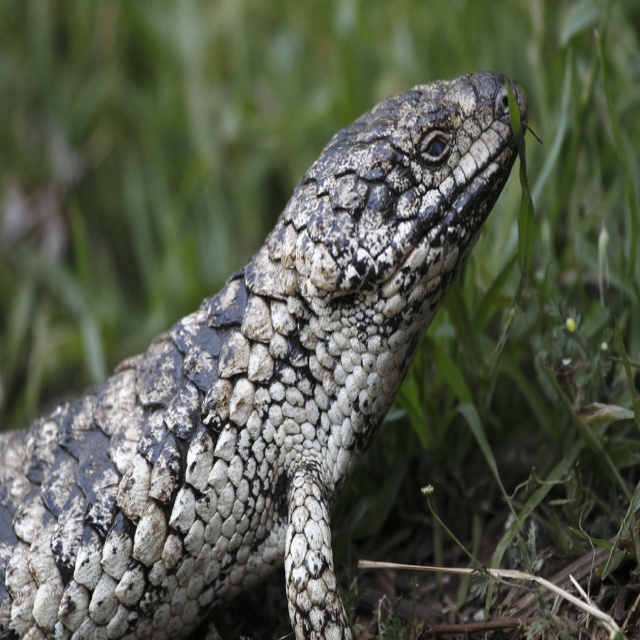Lizard: (0, 68, 527, 639)
